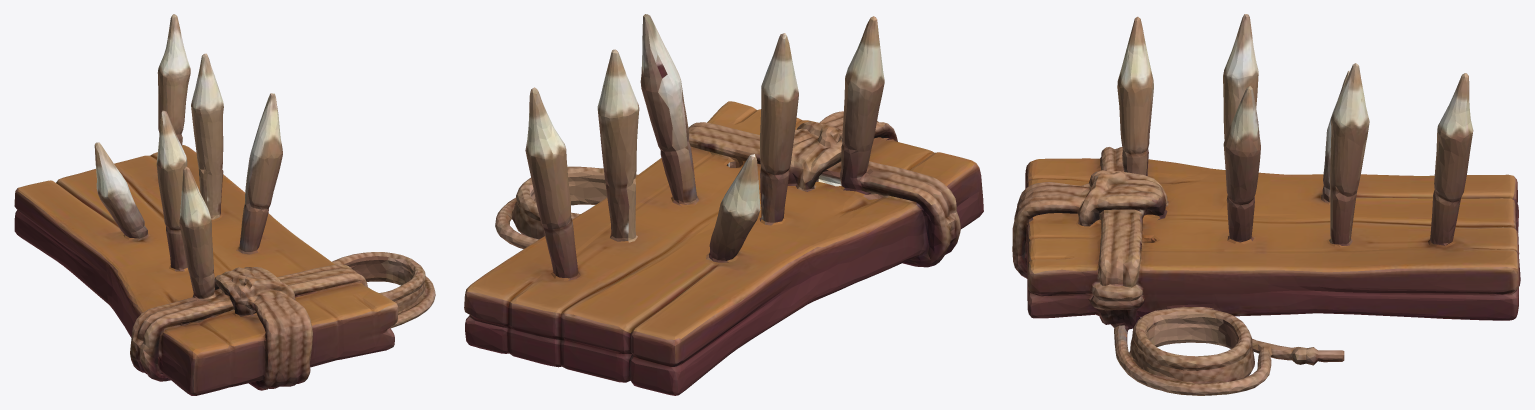
The model's file is spike_trap.glb.
3 views of the same model, side by side, from view 1: azimuth 30°, elevation 25°; view 2: azimuth 150°, elevation 25°; view 3: azimuth 270°, elevation 25° (orthographic). The views are drawn at different scales.
Parts seen in each view (by area): view 1: tmpcn846cwv.ply; view 2: tmpcn846cwv.ply; view 3: tmpcn846cwv.ply.
Part boxes in pixels (left/top/right/bottom): tmpcn846cwv.ply: left=14, top=14, right=435, bottom=395; tmpcn846cwv.ply: left=464, top=14, right=983, bottom=395; tmpcn846cwv.ply: left=1012, top=14, right=1520, bottom=395.
Size of the model in its own units: 1.69 by 1.09 by 2.
Materials: 1 (1 with a texture image).
